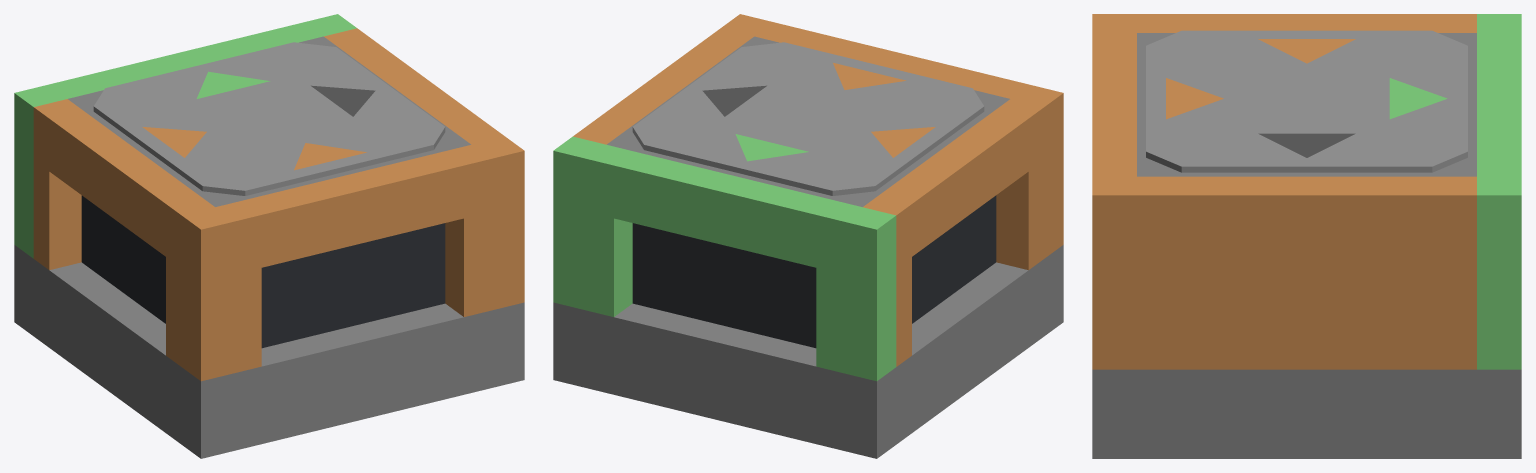
File: vfef_merger2_l.obj
3 views of the same model, side by side, from view 1: azimuth 30°, elevation 25°; view 2: azimuth 150°, elevation 25°; view 3: azimuth 270°, elevation 25° (orthographic). The views are drawn at different scales.
Parts seen in each view (by area): view 1: vfef_merger2_l_0, vfef_merger2_l_19, vfef_merger2_l_10, vfef_merger2_l_9, vfef_merger2_l_13, vfef_merger2_l_15, vfef_merger2_l_8, vfef_merger2_l_17, vfef_merger2_l_12, vfef_merger2_l_14, vfef_merger2_l_6, vfef_merger2_l_7 (+10 smaller); view 2: vfef_merger2_l_0, vfef_merger2_l_19, vfef_merger2_l_5, vfef_merger2_l_4, vfef_merger2_l_13, vfef_merger2_l_16, vfef_merger2_l_3, vfef_merger2_l_18, vfef_merger2_l_11, vfef_merger2_l_14, vfef_merger2_l_6, vfef_merger2_l_2 (+10 smaller); view 3: vfef_merger2_l_6, vfef_merger2_l_19, vfef_merger2_l_0, vfef_merger2_l_17, vfef_merger2_l_18, vfef_merger2_l_4, vfef_merger2_l_9, vfef_merger2_l_1, vfef_merger2_l_13, vfef_merger2_l_22, vfef_merger2_l_21, vfef_merger2_l_20 (+8 smaller).
Boxes of the visible parts, <box> form: vfef_merger2_l_0: <box>14,245,524,458</box>; vfef_merger2_l_19: <box>93,42,445,195</box>; vfef_merger2_l_10: <box>261,223,445,348</box>; vfef_merger2_l_9: <box>243,151,463,267</box>; vfef_merger2_l_13: <box>49,110,199,256</box>; vfef_merger2_l_15: <box>181,207,234,381</box>; vfef_merger2_l_8: <box>445,144,490,316</box>; vfef_merger2_l_17: <box>472,136,524,310</box>; vfef_merger2_l_12: <box>33,99,82,270</box>; vfef_merger2_l_14: <box>81,195,165,323</box>; vfef_merger2_l_6: <box>324,28,504,144</box>; vfef_merger2_l_7: <box>215,200,261,372</box>; vfef_merger2_l_0: <box>553,245,1063,458</box>; vfef_merger2_l_19: <box>632,42,984,195</box>; vfef_merger2_l_5: <box>632,223,816,348</box>; vfef_merger2_l_4: <box>614,151,834,267</box>; vfef_merger2_l_13: <box>878,110,1028,256</box>; vfef_merger2_l_16: <box>843,207,896,381</box>; vfef_merger2_l_3: <box>587,144,632,316</box>; vfef_merger2_l_18: <box>553,136,605,310</box>; vfef_merger2_l_11: <box>995,99,1044,270</box>; vfef_merger2_l_14: <box>912,195,996,323</box>; vfef_merger2_l_6: <box>573,28,753,144</box>; vfef_merger2_l_2: <box>816,200,862,372</box>; vfef_merger2_l_6: <box>1137,176,1476,369</box>; vfef_merger2_l_19: <box>1146,30,1467,172</box>; vfef_merger2_l_0: <box>1092,369,1521,458</box>; vfef_merger2_l_17: <box>1092,176,1136,369</box>; vfef_merger2_l_18: <box>1477,176,1521,369</box>; vfef_merger2_l_4: <box>1477,48,1521,161</box>; vfef_merger2_l_9: <box>1092,48,1136,161</box>; vfef_merger2_l_1: <box>1137,33,1476,176</box>; vfef_merger2_l_13: <box>1172,14,1441,32</box>; vfef_merger2_l_22: <box>1166,39,1355,119</box>; vfef_merger2_l_21: <box>1258,133,1355,157</box>; vfef_merger2_l_20: <box>1389,78,1447,119</box>.
Bounding box in the file's own units: 0.96 × 0.665 × 0.96.
